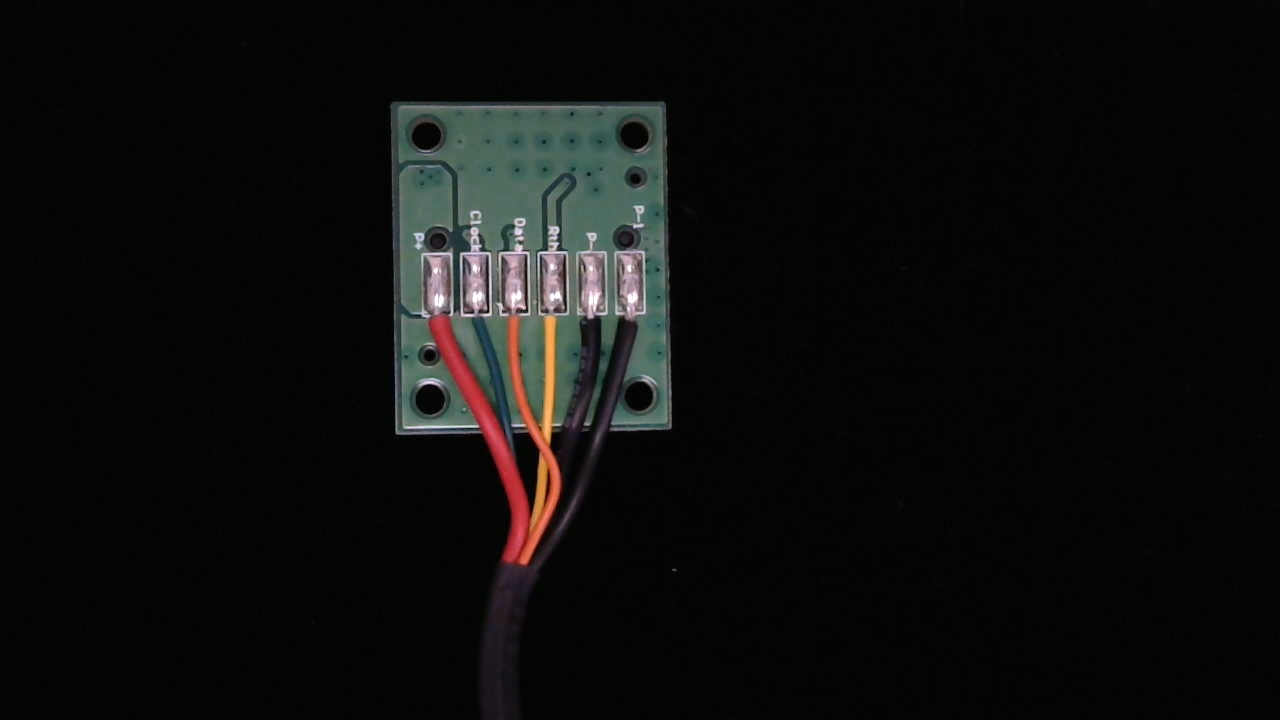Black: (583, 300, 619, 365)
Black1: (626, 300, 658, 357)
Green: (469, 298, 504, 356)
Orange: (506, 297, 539, 359)
Red: (427, 302, 462, 363)
Yellow: (544, 300, 577, 363)
